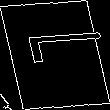L_E: (6, 37, 104, 73)
